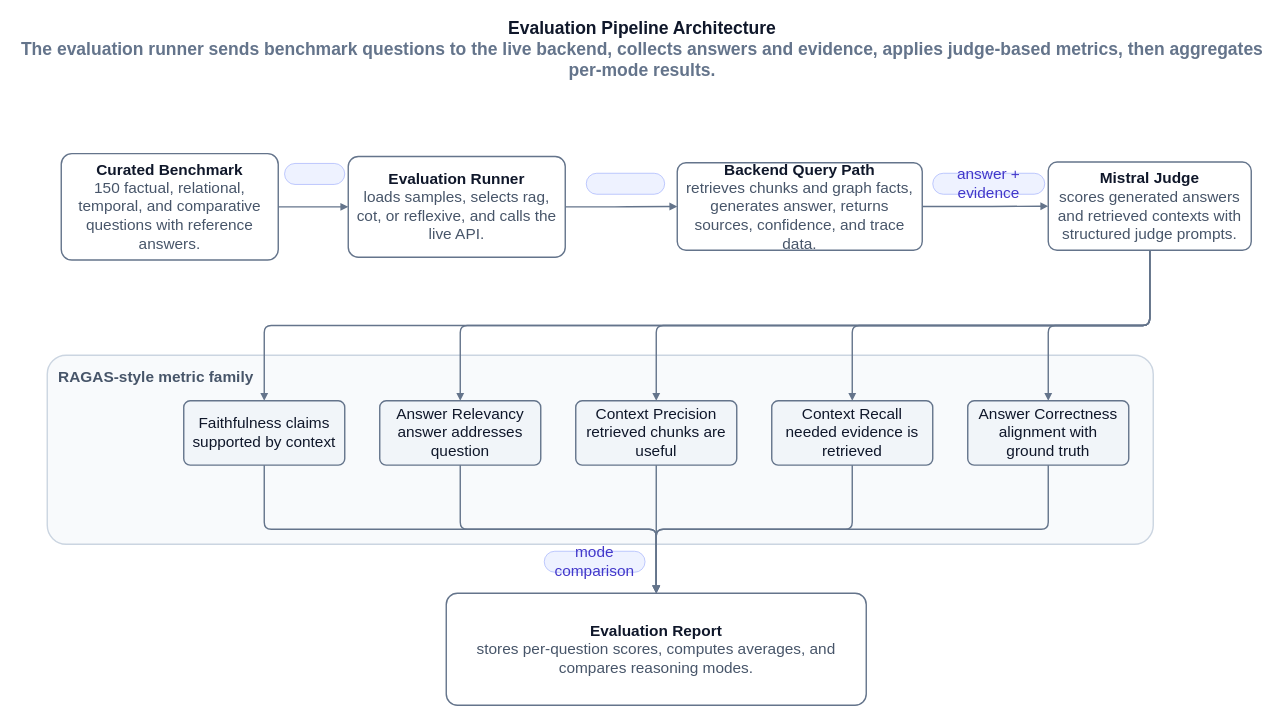
The diagram is 1284 pixels wide and 718 high, and some of its shapes have lost their labels. The shapes that lost their labels are listed below. From the top down, each one's centre as x and y in pixels, then its label:
pixel 314 173: samples
pixel 625 183: API request
